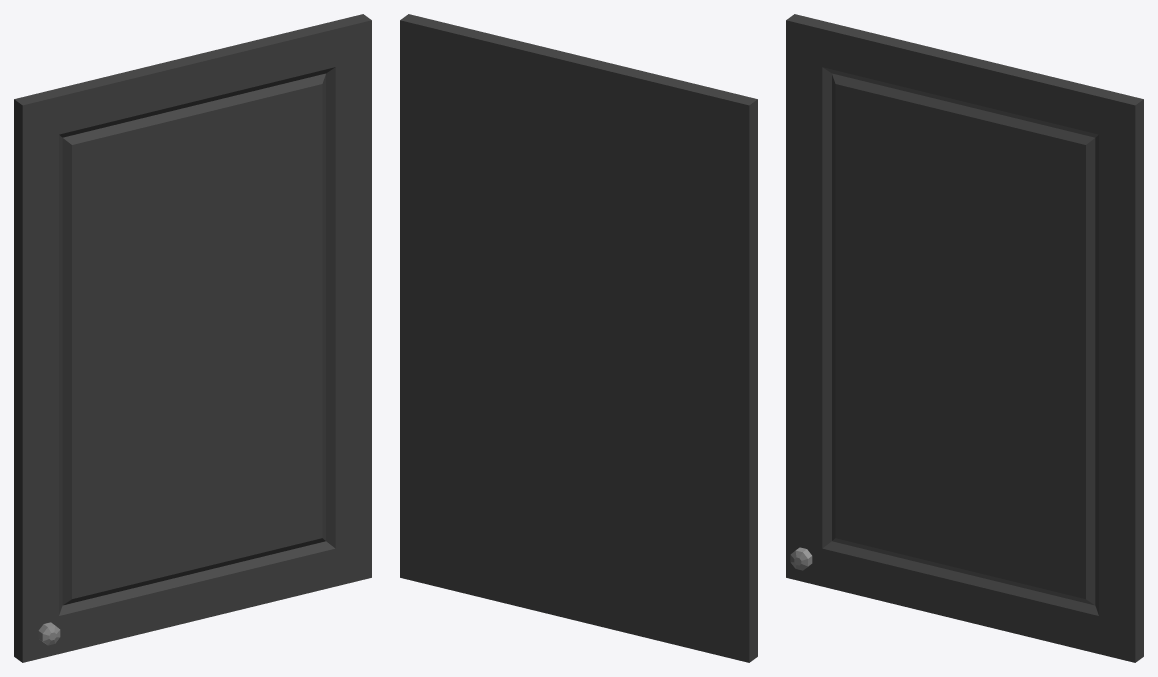
File: Door3_C3_11.fbx
3 views of the same model, side by side, from view 1: azimuth 30°, elevation 25°; view 2: azimuth 150°, elevation 25°; view 3: azimuth 330°, elevation 25° (orthographic).
Visible parts, largest first — view 1: Door3_C3_11; view 2: Door3_C3_11; view 3: Door3_C3_11.
Part boxes in pixels (x1,y1,x2,y2): Door3_C3_11: [14, 14, 371, 662]; Door3_C3_11: [400, 14, 757, 662]; Door3_C3_11: [786, 14, 1143, 662].
Size of the model in its own units: 59 by 90 by 5.19.
